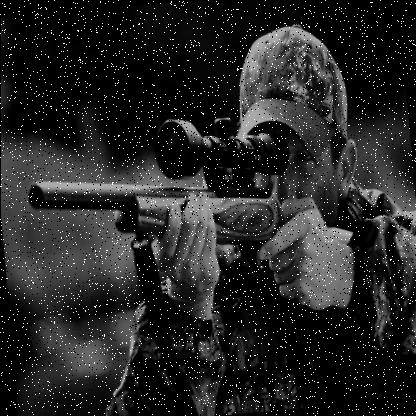rifle: (22, 98, 317, 323)
